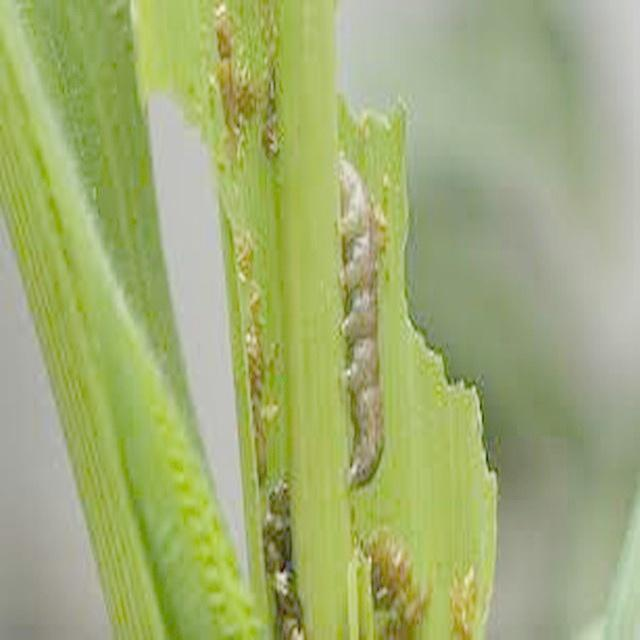pest: (342, 176, 395, 488)
